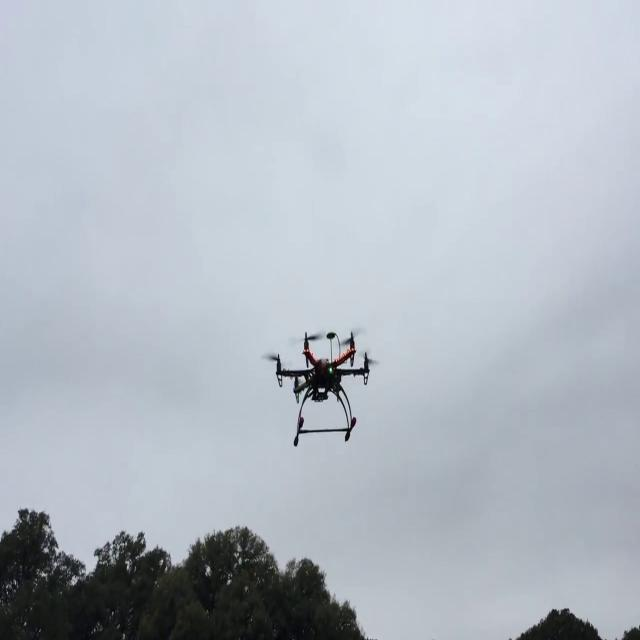drone: (260, 319, 374, 450)
